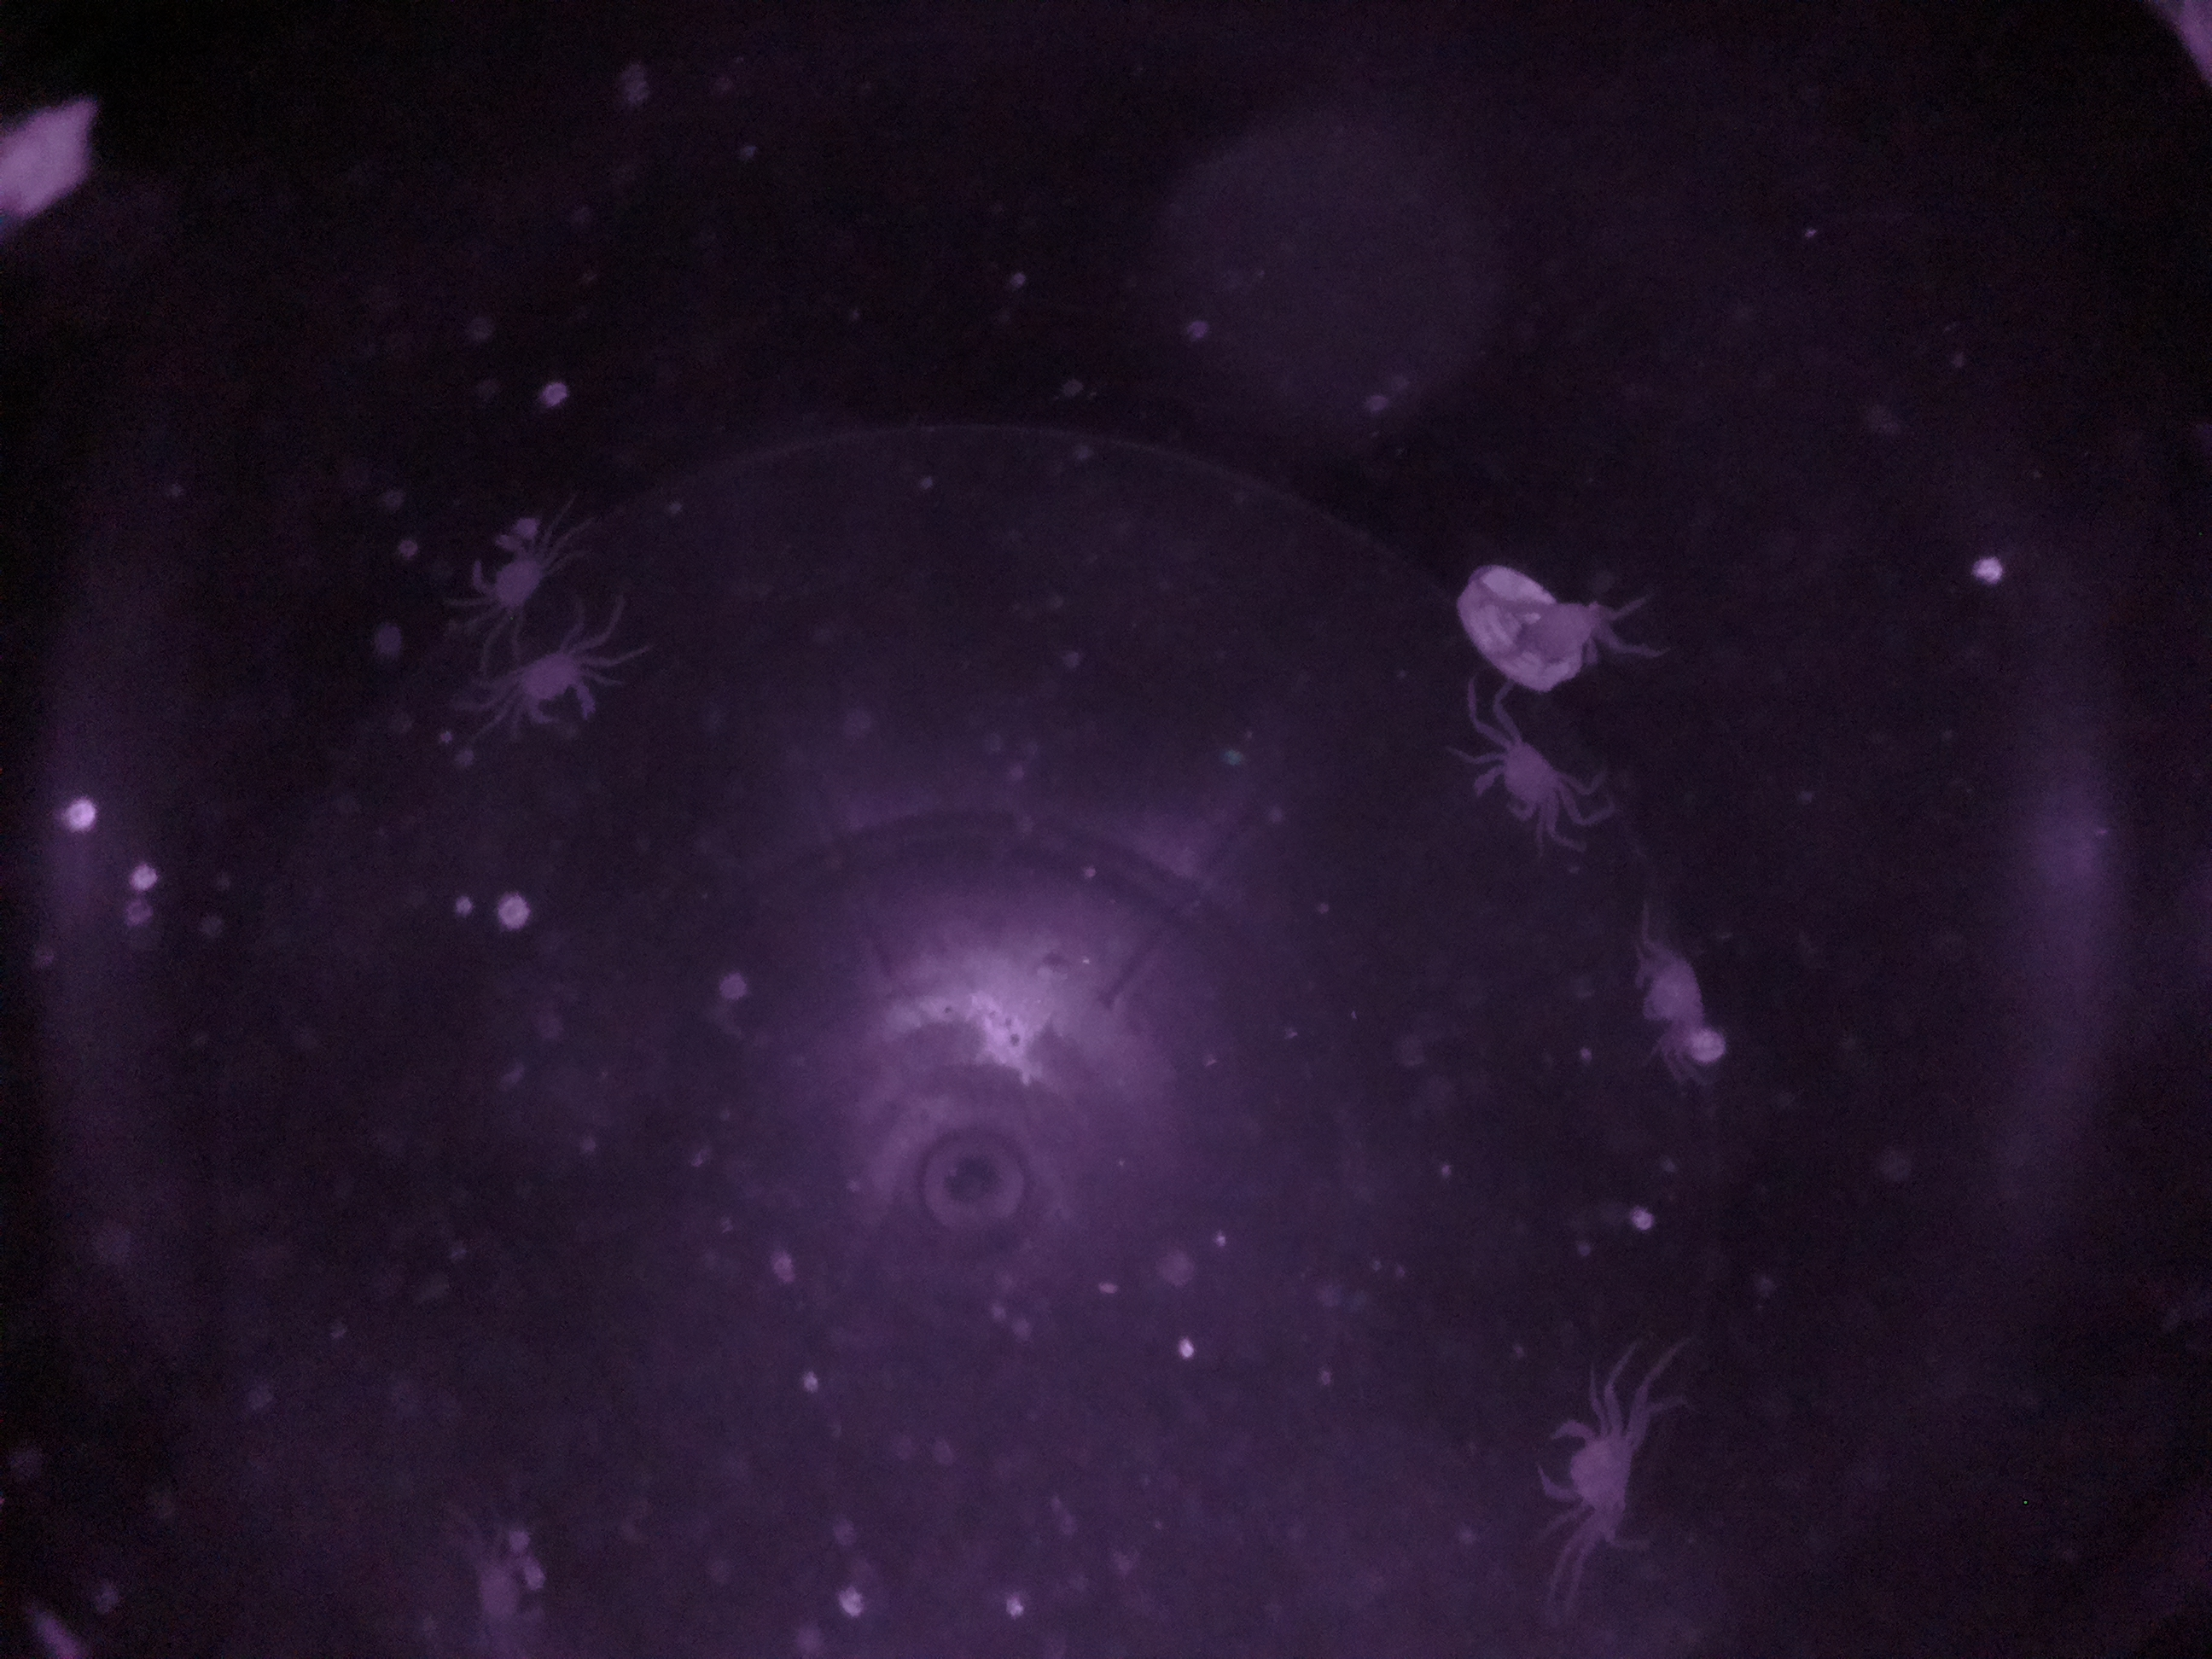Crab: (469, 605, 618, 753), (1521, 1398, 1662, 1549), (1458, 718, 1580, 849)
